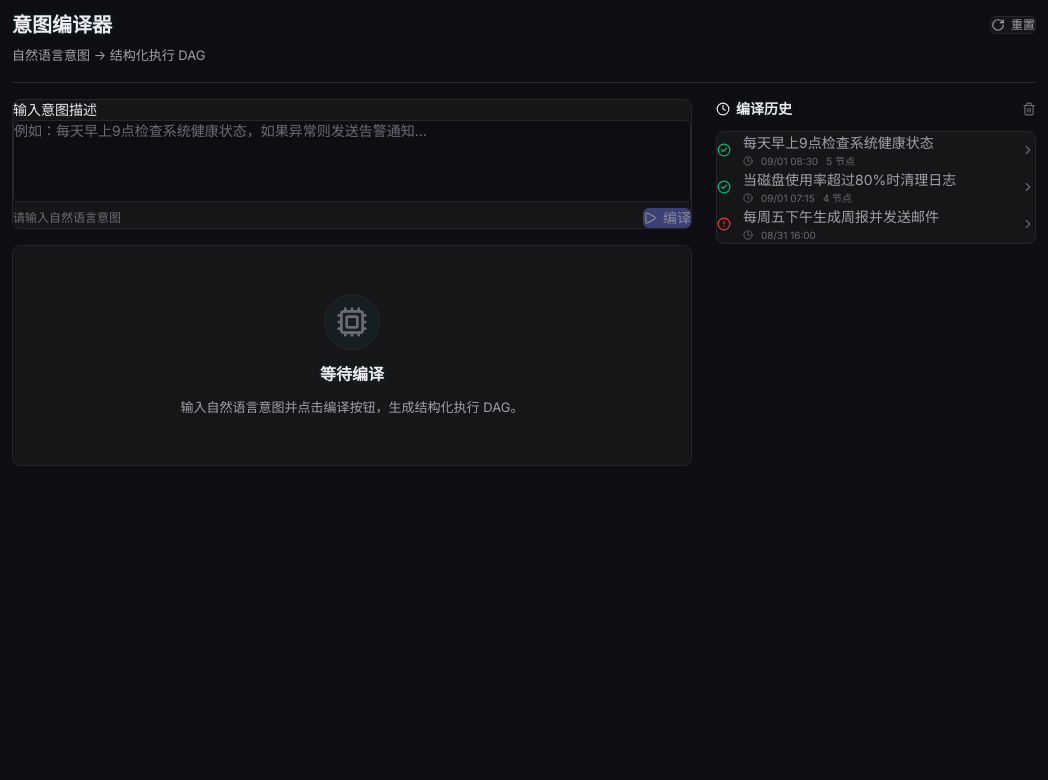
Test: IntentCompiler › state changes › renders DAG result after successful compilation
The image size is (1048, 780).
Type "测试意图" into the text box with test id "intent-input" at [352, 160], box [13, 120, 691, 202]
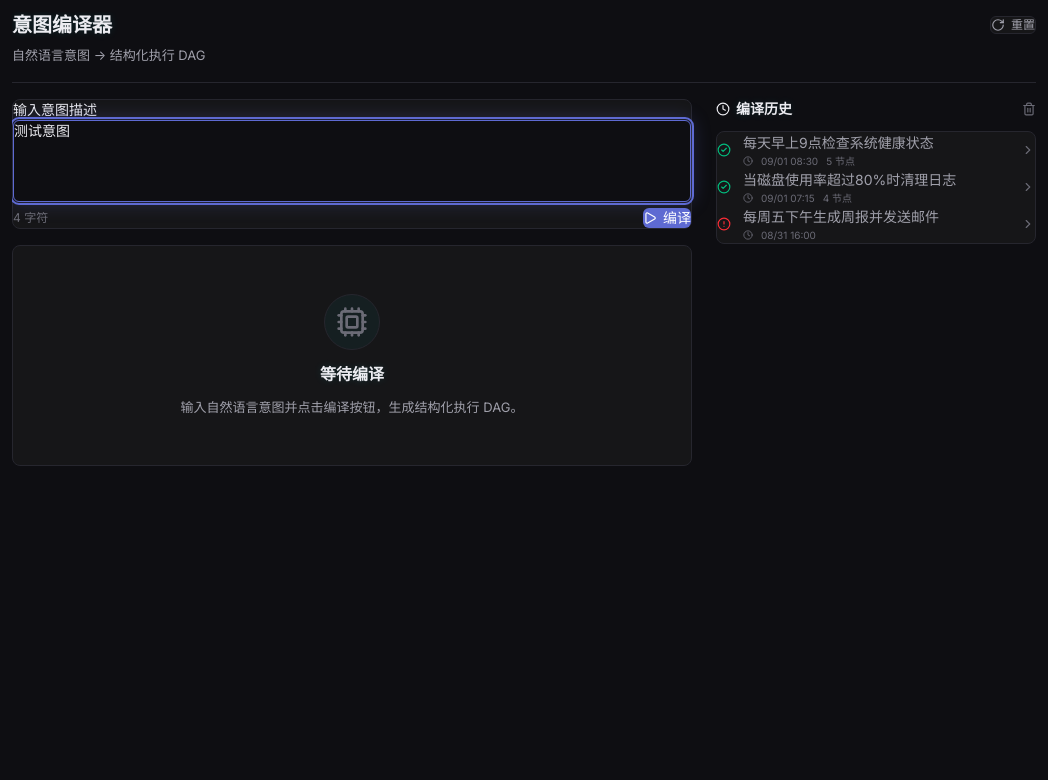
Click the button with test id "compile-btn" at [667, 218], box [643, 208, 691, 228]
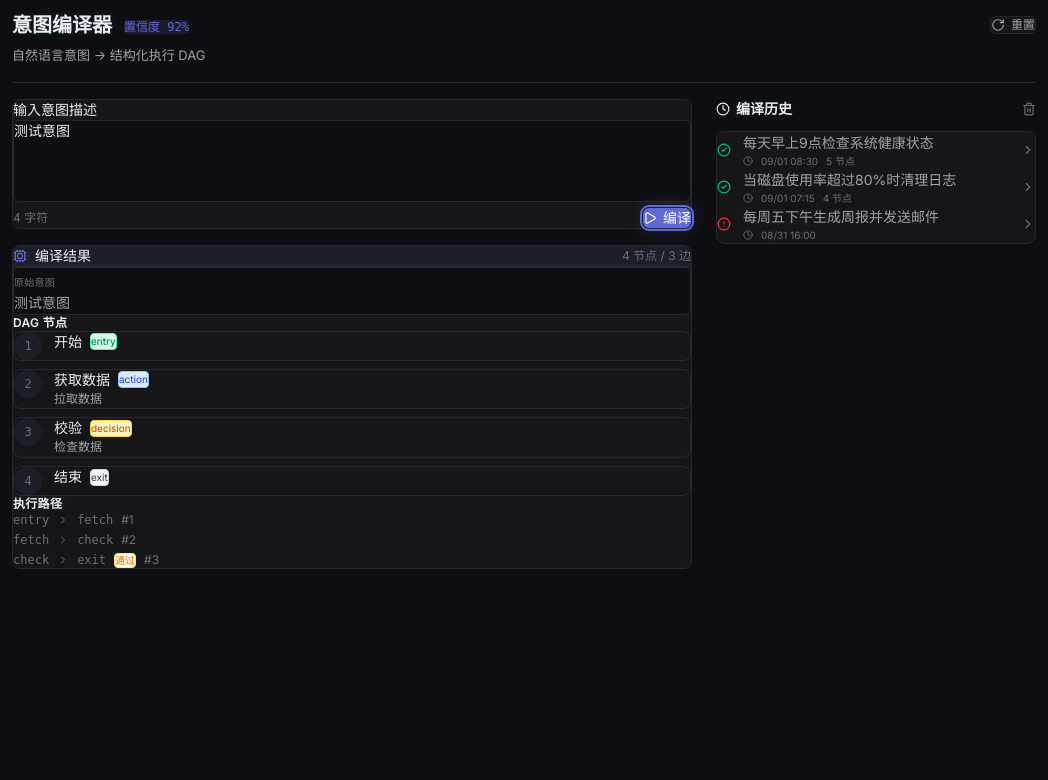
Expected: the text "编译结果" is shown, [35, 246, 91, 266]
Expected: the number of elements with test id "dag-node" is 4, [13, 330, 691, 360]; [13, 368, 691, 409]; [13, 417, 691, 458]; [13, 466, 691, 496]
Expected: the number of elements with test id "dag-edge" is 3, [13, 512, 134, 528]; [13, 532, 136, 548]; [13, 552, 159, 568]
